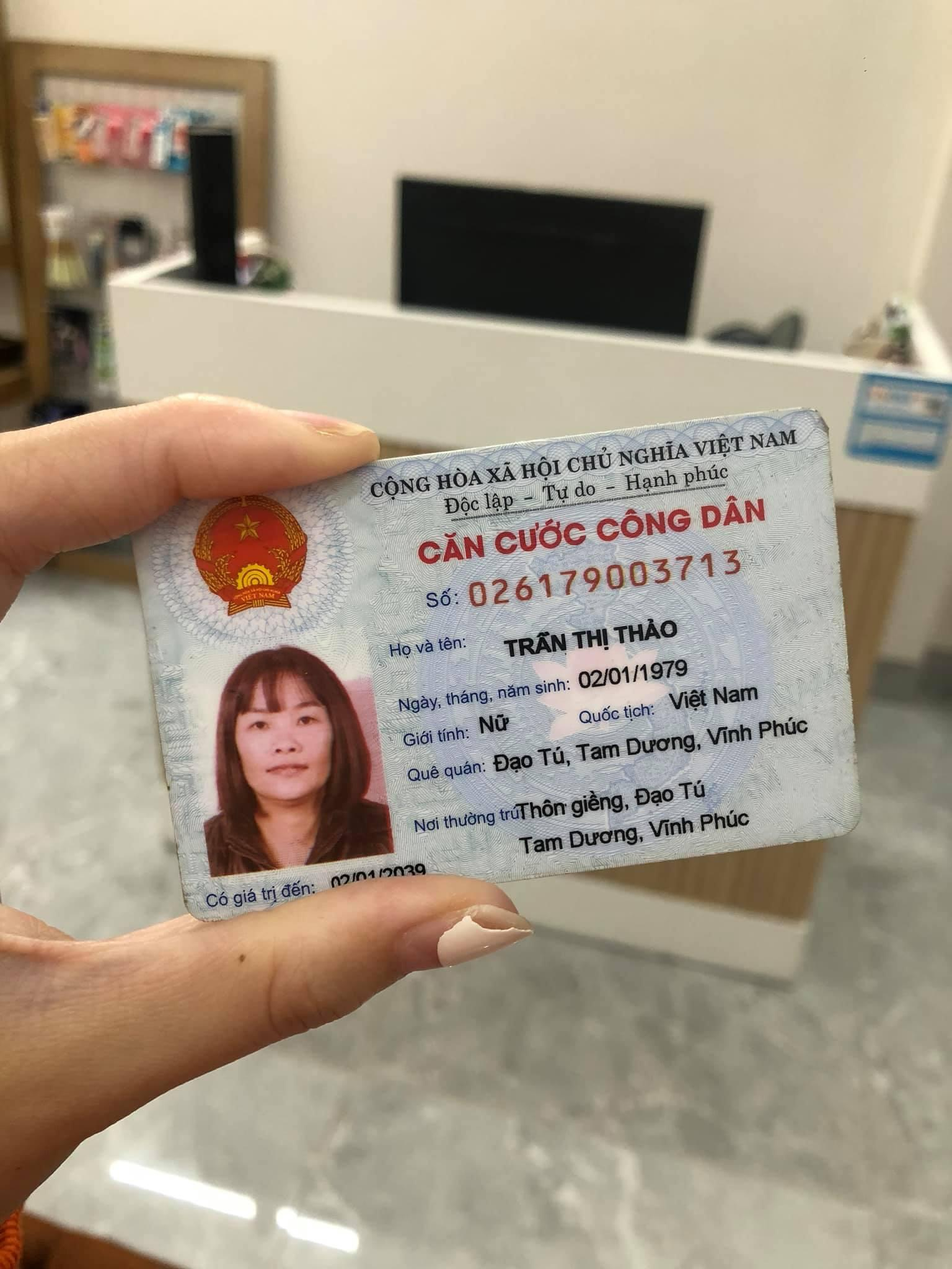bottom_left: (174, 899, 236, 932)
bottom_right: (831, 793, 868, 845)
image_person: (178, 640, 403, 863)
top_right: (794, 396, 840, 448)
